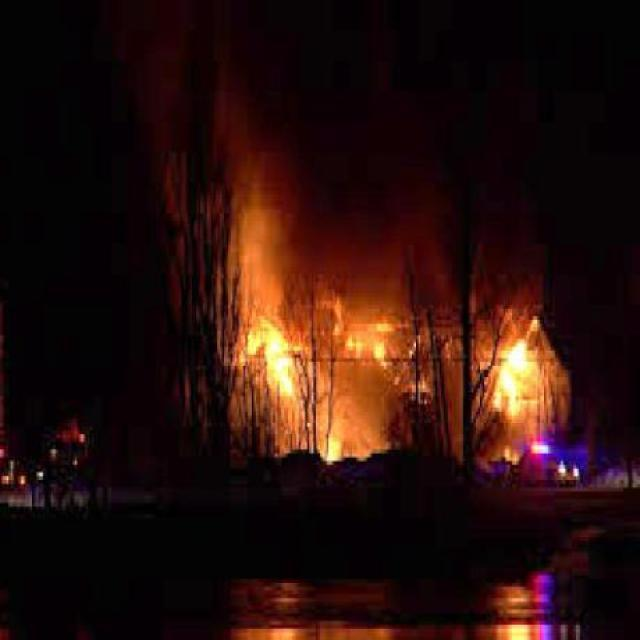Fire: (486, 334, 571, 411), (236, 320, 308, 406), (340, 313, 416, 372), (323, 433, 375, 467)
Smoke: (186, 102, 576, 300)
